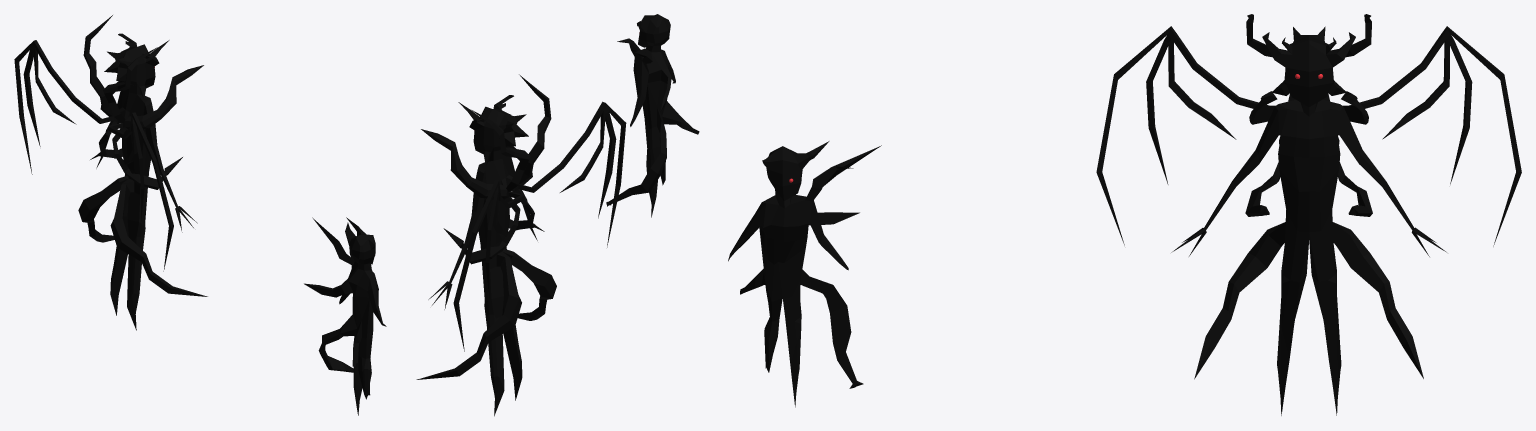
File: demon2.fbx
The picture shows the model from 3 angles, left to right: view 1: azimuth 30°, elevation 25°; view 2: azimuth 150°, elevation 25°; view 3: azimuth 270°, elevation 25°; orthographic projection. The views are drawn at different scales.
Visible parts, largest first — view 1: DemonRemakeCrybaby, DemonNul; view 2: DemonRemakeCrybaby, DemonNul; view 3: DemonRemakeCrybaby, DemonNul.
Part boxes in pixels (x1=…): DemonRemakeCrybaby: x1=14, y1=15, x2=207, y2=330; DemonNul: x1=304, y1=217, x2=386, y2=415; DemonRemakeCrybaby: x1=416, y1=74, x2=626, y2=416; DemonNul: x1=606, y1=14, x2=699, y2=217; DemonRemakeCrybaby: x1=1096, y1=14, x2=1521, y2=415; DemonNul: x1=728, y1=141, x2=881, y2=407.
Bounding box in the file's own units: 530 × 1308 × 2307.
